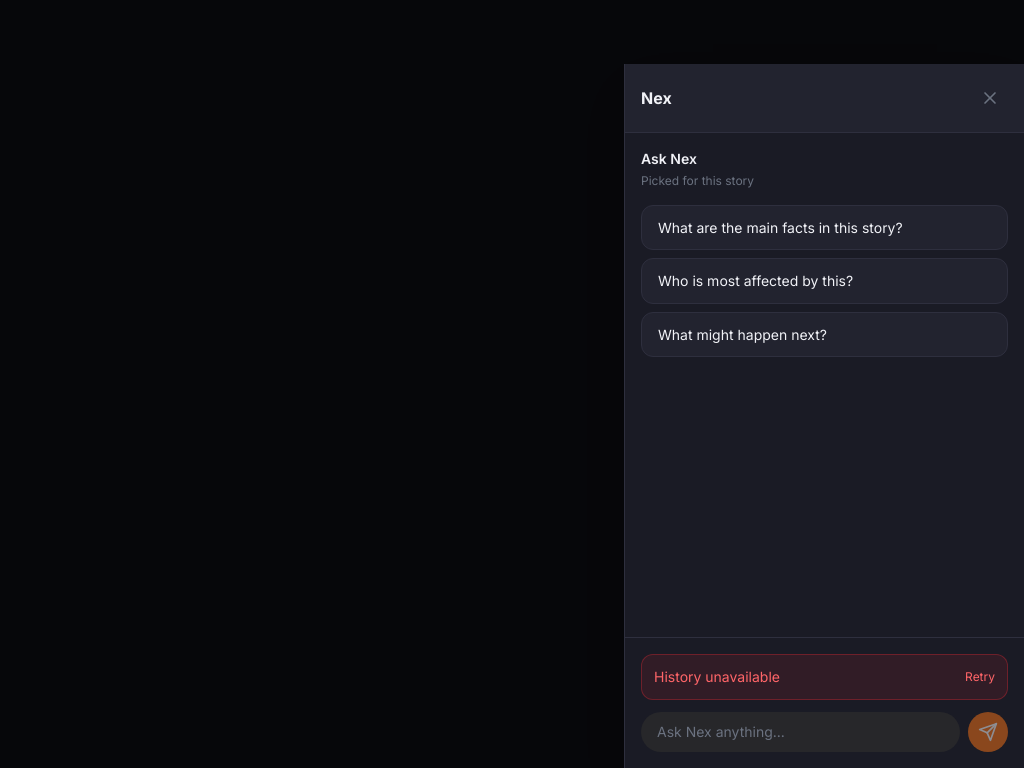
Test case: SlideOutChatPanel › retry behavior › retries history fetch when initial load fails
This screenshot has width=1024, height=768.
Expected: the text "History unavailable" is shown, [654,667,780,687]
Click the button "Retry" at (980, 677), box [965,669,995,685]
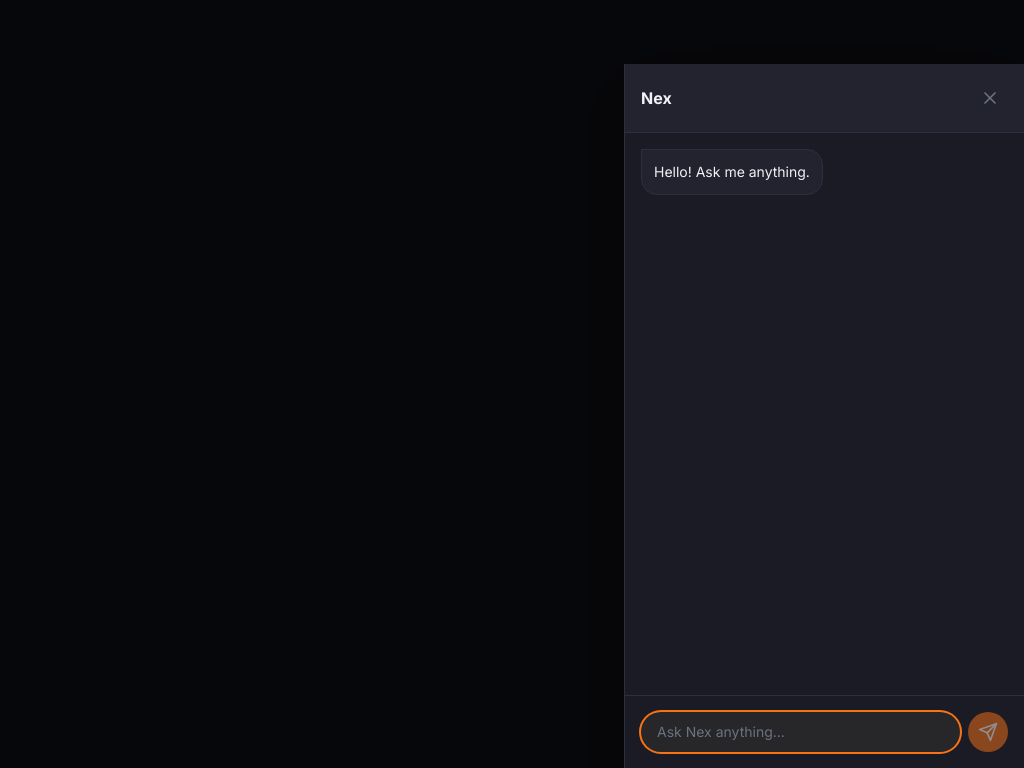
Expected: the text "Hello! Ask me anything." is shown, [641,149,823,195]
Expected: the text "History unavailable" is gone
